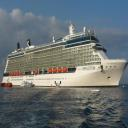cruises: (2, 21, 128, 91)
